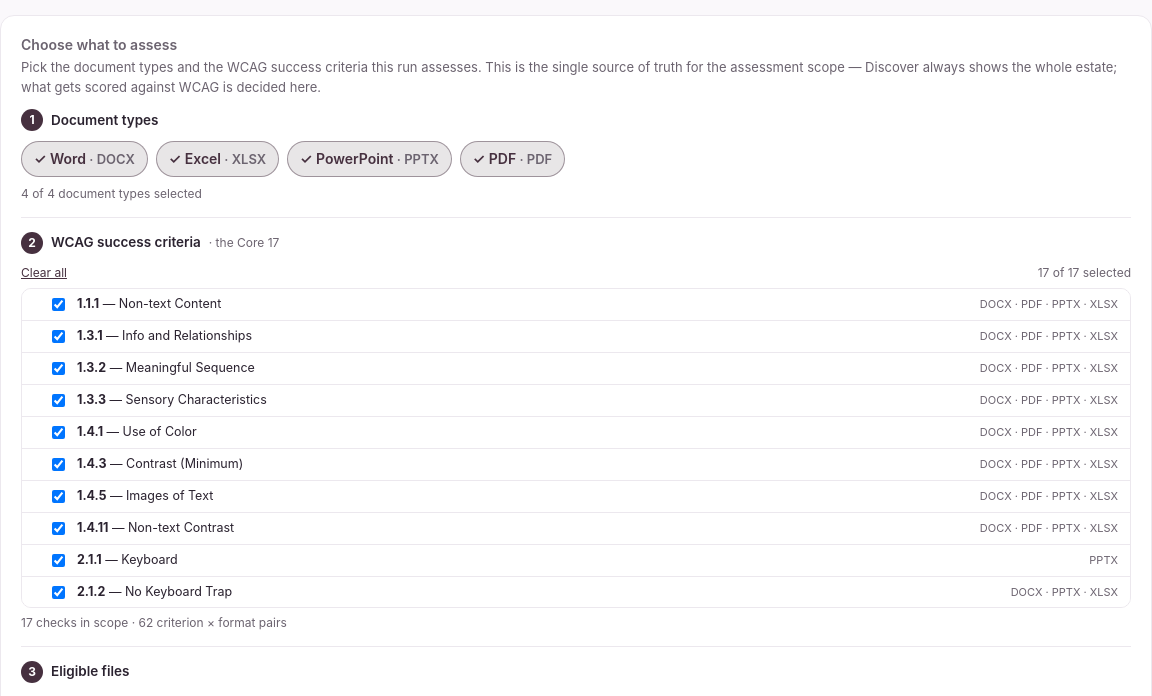
Test: Save writes scan_scope from the selection › refuses an empty selection rather than storing "assess everything"
Click the button "Clear all" at (44, 272), box [21,264,67,282]
(page scrolled)
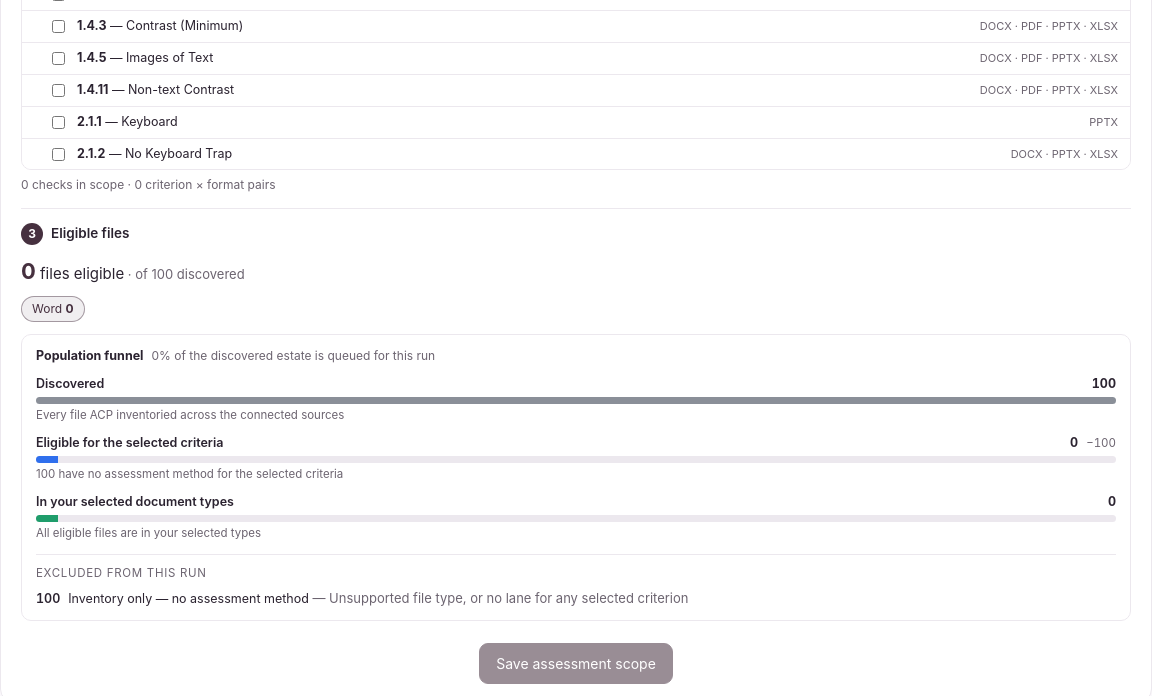
Check: the button "Save assessment scope" is disabled, box [479,643,673,684]
